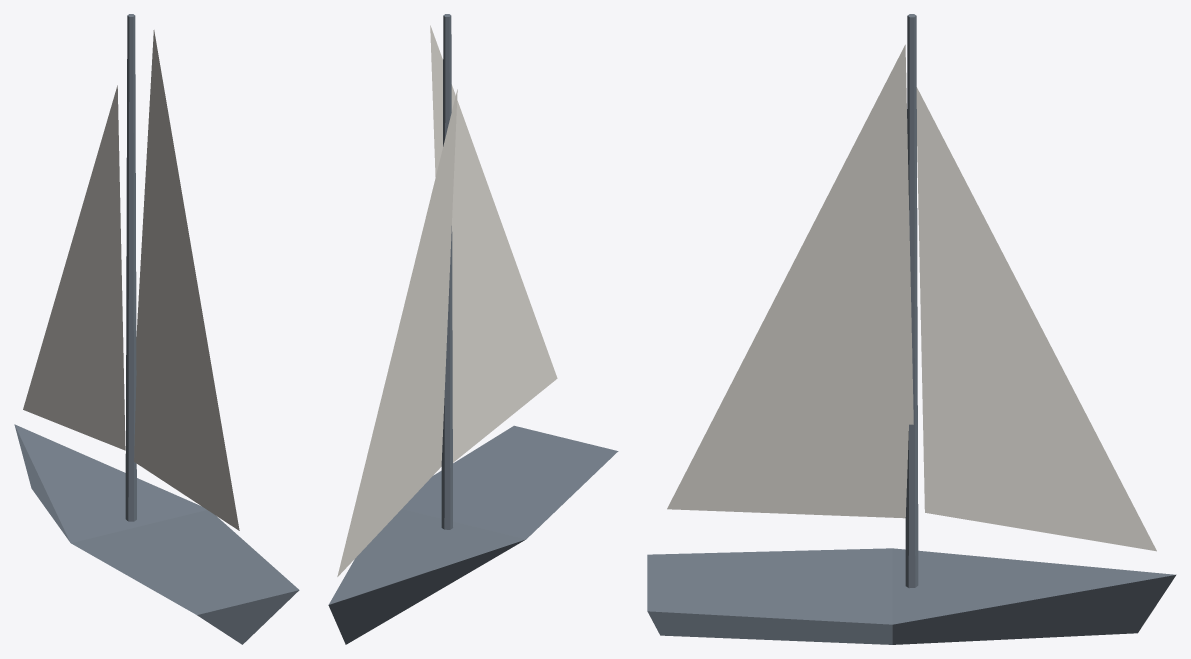
Rendered from sailboat.glb.
3 views of the same model, side by side, from view 1: azimuth 30°, elevation 25°; view 2: azimuth 150°, elevation 25°; view 3: azimuth 270°, elevation 25° (orthographic). The views are drawn at different scales.
Parts seen in each view (by area): view 1: sailboat; view 2: sailboat; view 3: sailboat.
Part boxes in pixels (left/top/right/bottom): sailboat: left=14, top=14, right=299, bottom=644; sailboat: left=328, top=14, right=618, bottom=644; sailboat: left=647, top=14, right=1176, bottom=644.
Size of the model in its own units: 1.4 by 5.38 by 4.1.
